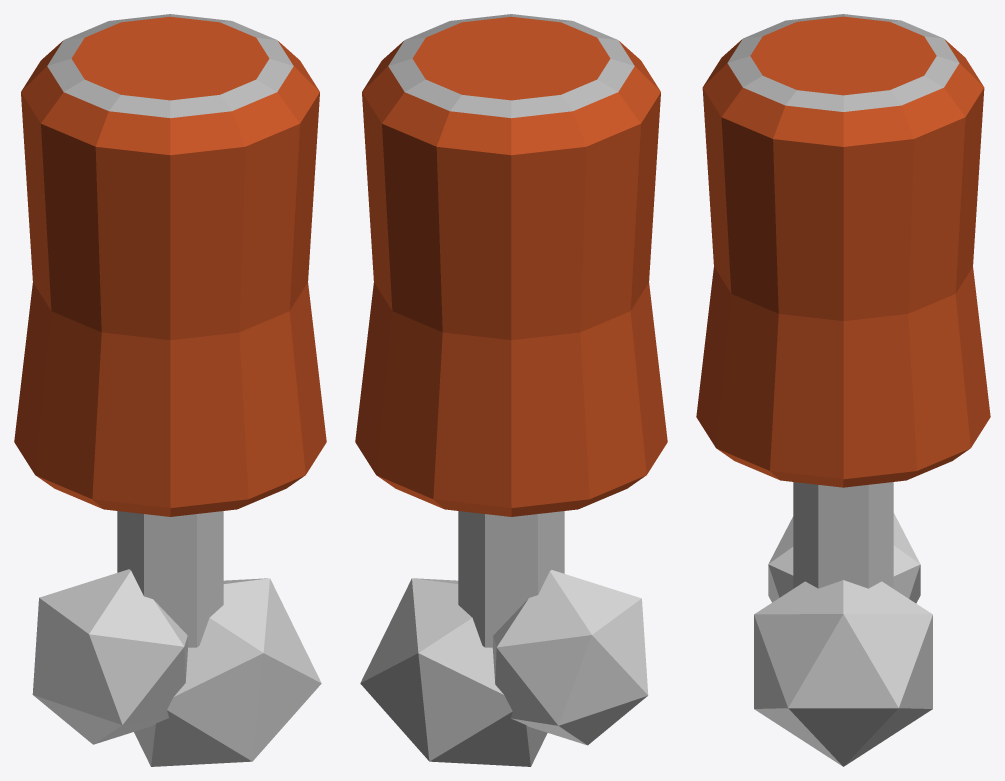
Rendered from fishBait.fbx.
The picture shows the model from 3 angles, left to right: view 1: azimuth 30°, elevation 25°; view 2: azimuth 150°, elevation 25°; view 3: azimuth 270°, elevation 25°; orthographic projection. The views are drawn at different scales.
Parts seen in each view (by area): view 1: fishBait; view 2: fishBait; view 3: fishBait.
Boxes of the visible parts, x1,y1,x2,y2 form: fishBait: (14,14,326,766); fishBait: (355,14,667,766); fishBait: (696,14,990,766).
Bounding box in the file's own units: 84.28 × 211 × 83.68.
